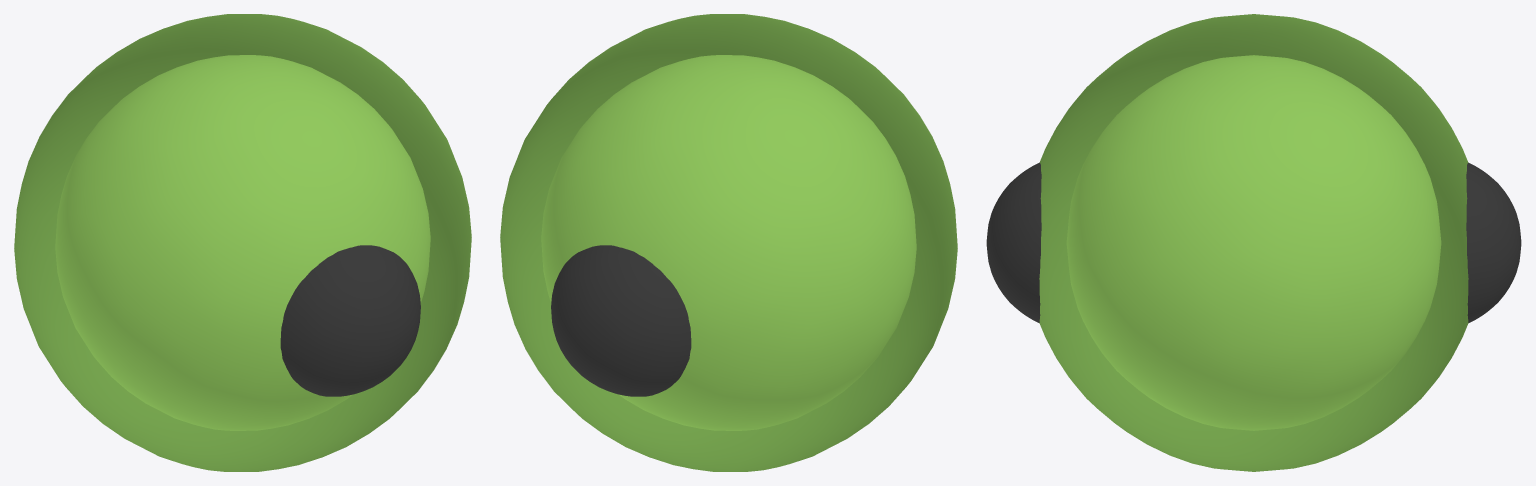
The model's file is centibody.glb.
3 views of the same model, side by side, from view 1: azimuth 30°, elevation 25°; view 2: azimuth 150°, elevation 25°; view 3: azimuth 270°, elevation 25° (orthographic).
Parts seen in each view (by area): view 1: Icosphere.001; view 2: Icosphere.001; view 3: Icosphere.001.
Part boxes in pixels (x1,y1,x2,y2): Icosphere.001: [14, 14, 471, 471]; Icosphere.001: [500, 14, 957, 471]; Icosphere.001: [986, 14, 1521, 471].
Size of the model in its own units: 3.22 by 3.21 by 3.76.
Materials: 1 (1 with a texture image).
